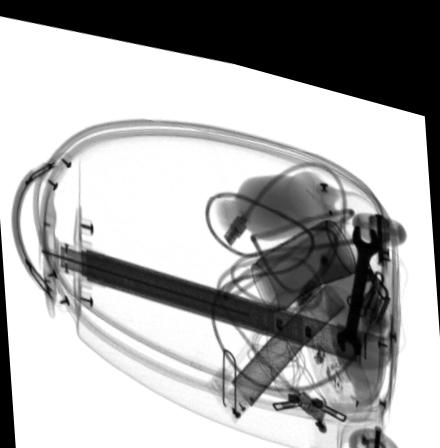Wrench: (335, 204, 380, 336)
